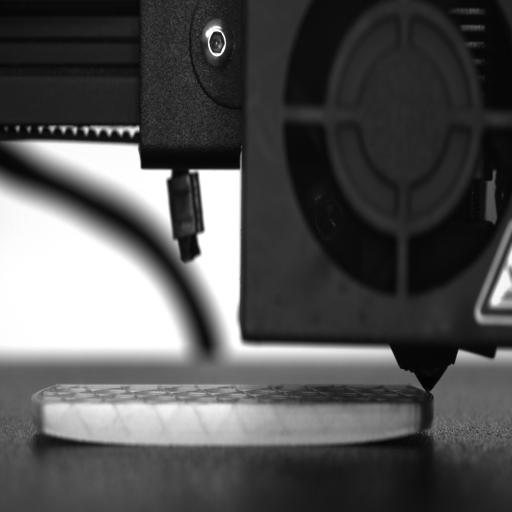warp: (301, 418, 445, 448), (24, 418, 116, 448)
